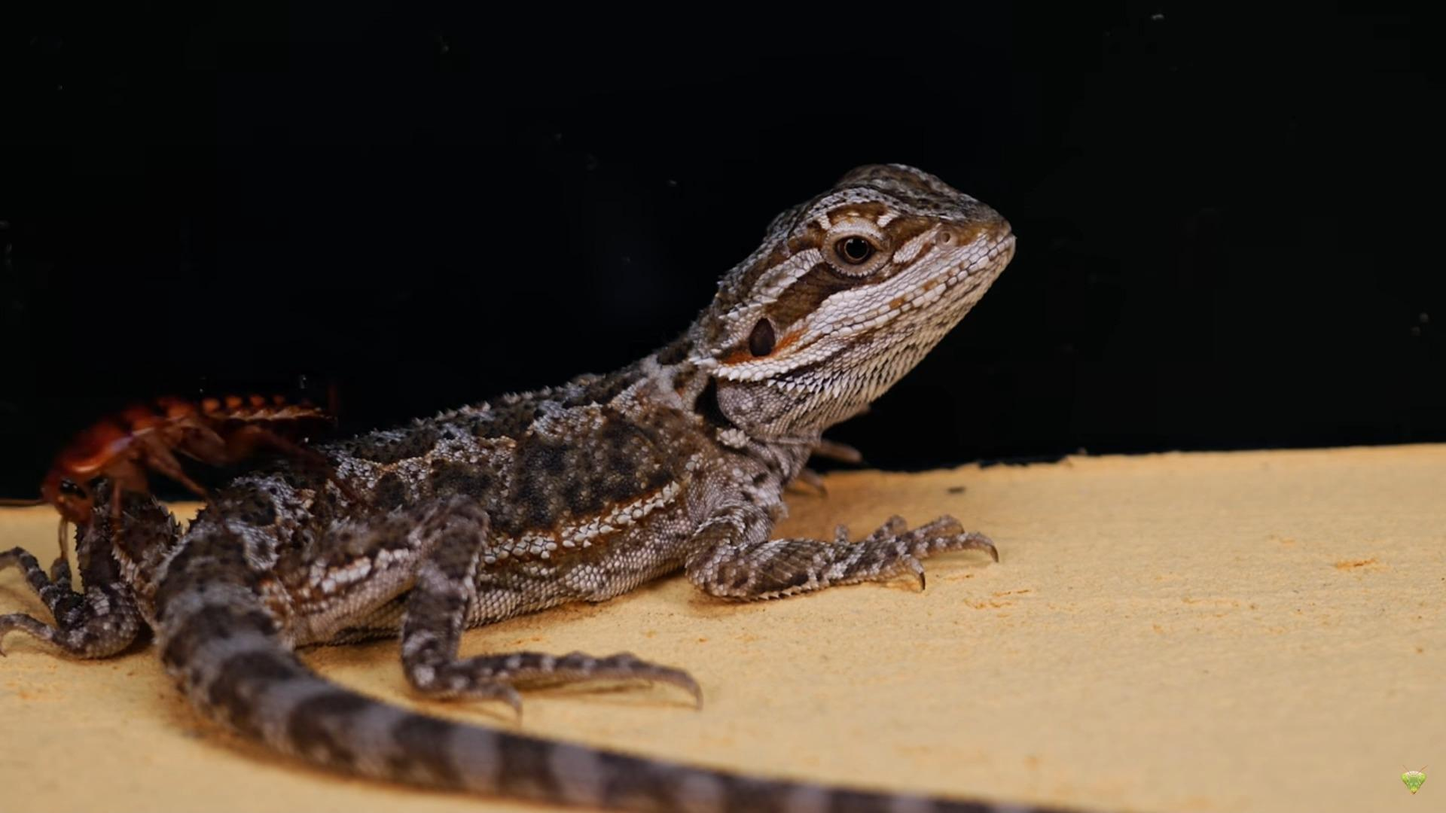cockroach: (51, 362, 320, 517)
lizard: (51, 146, 1016, 813)
